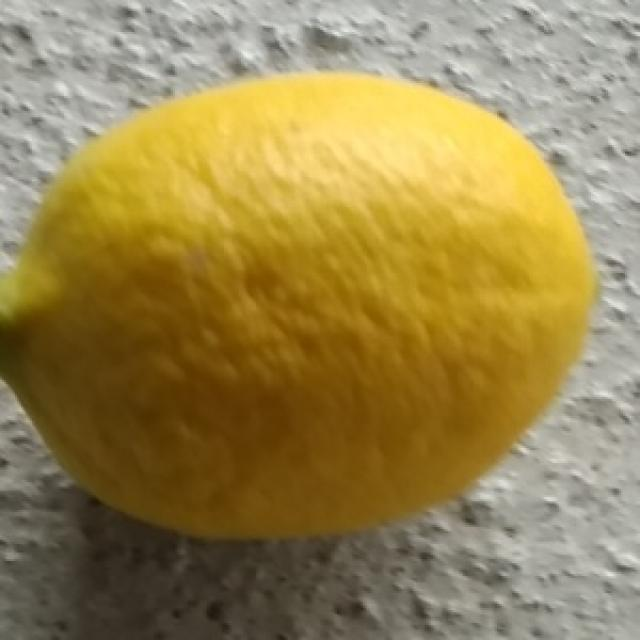Lemon: (5, 68, 601, 540)
